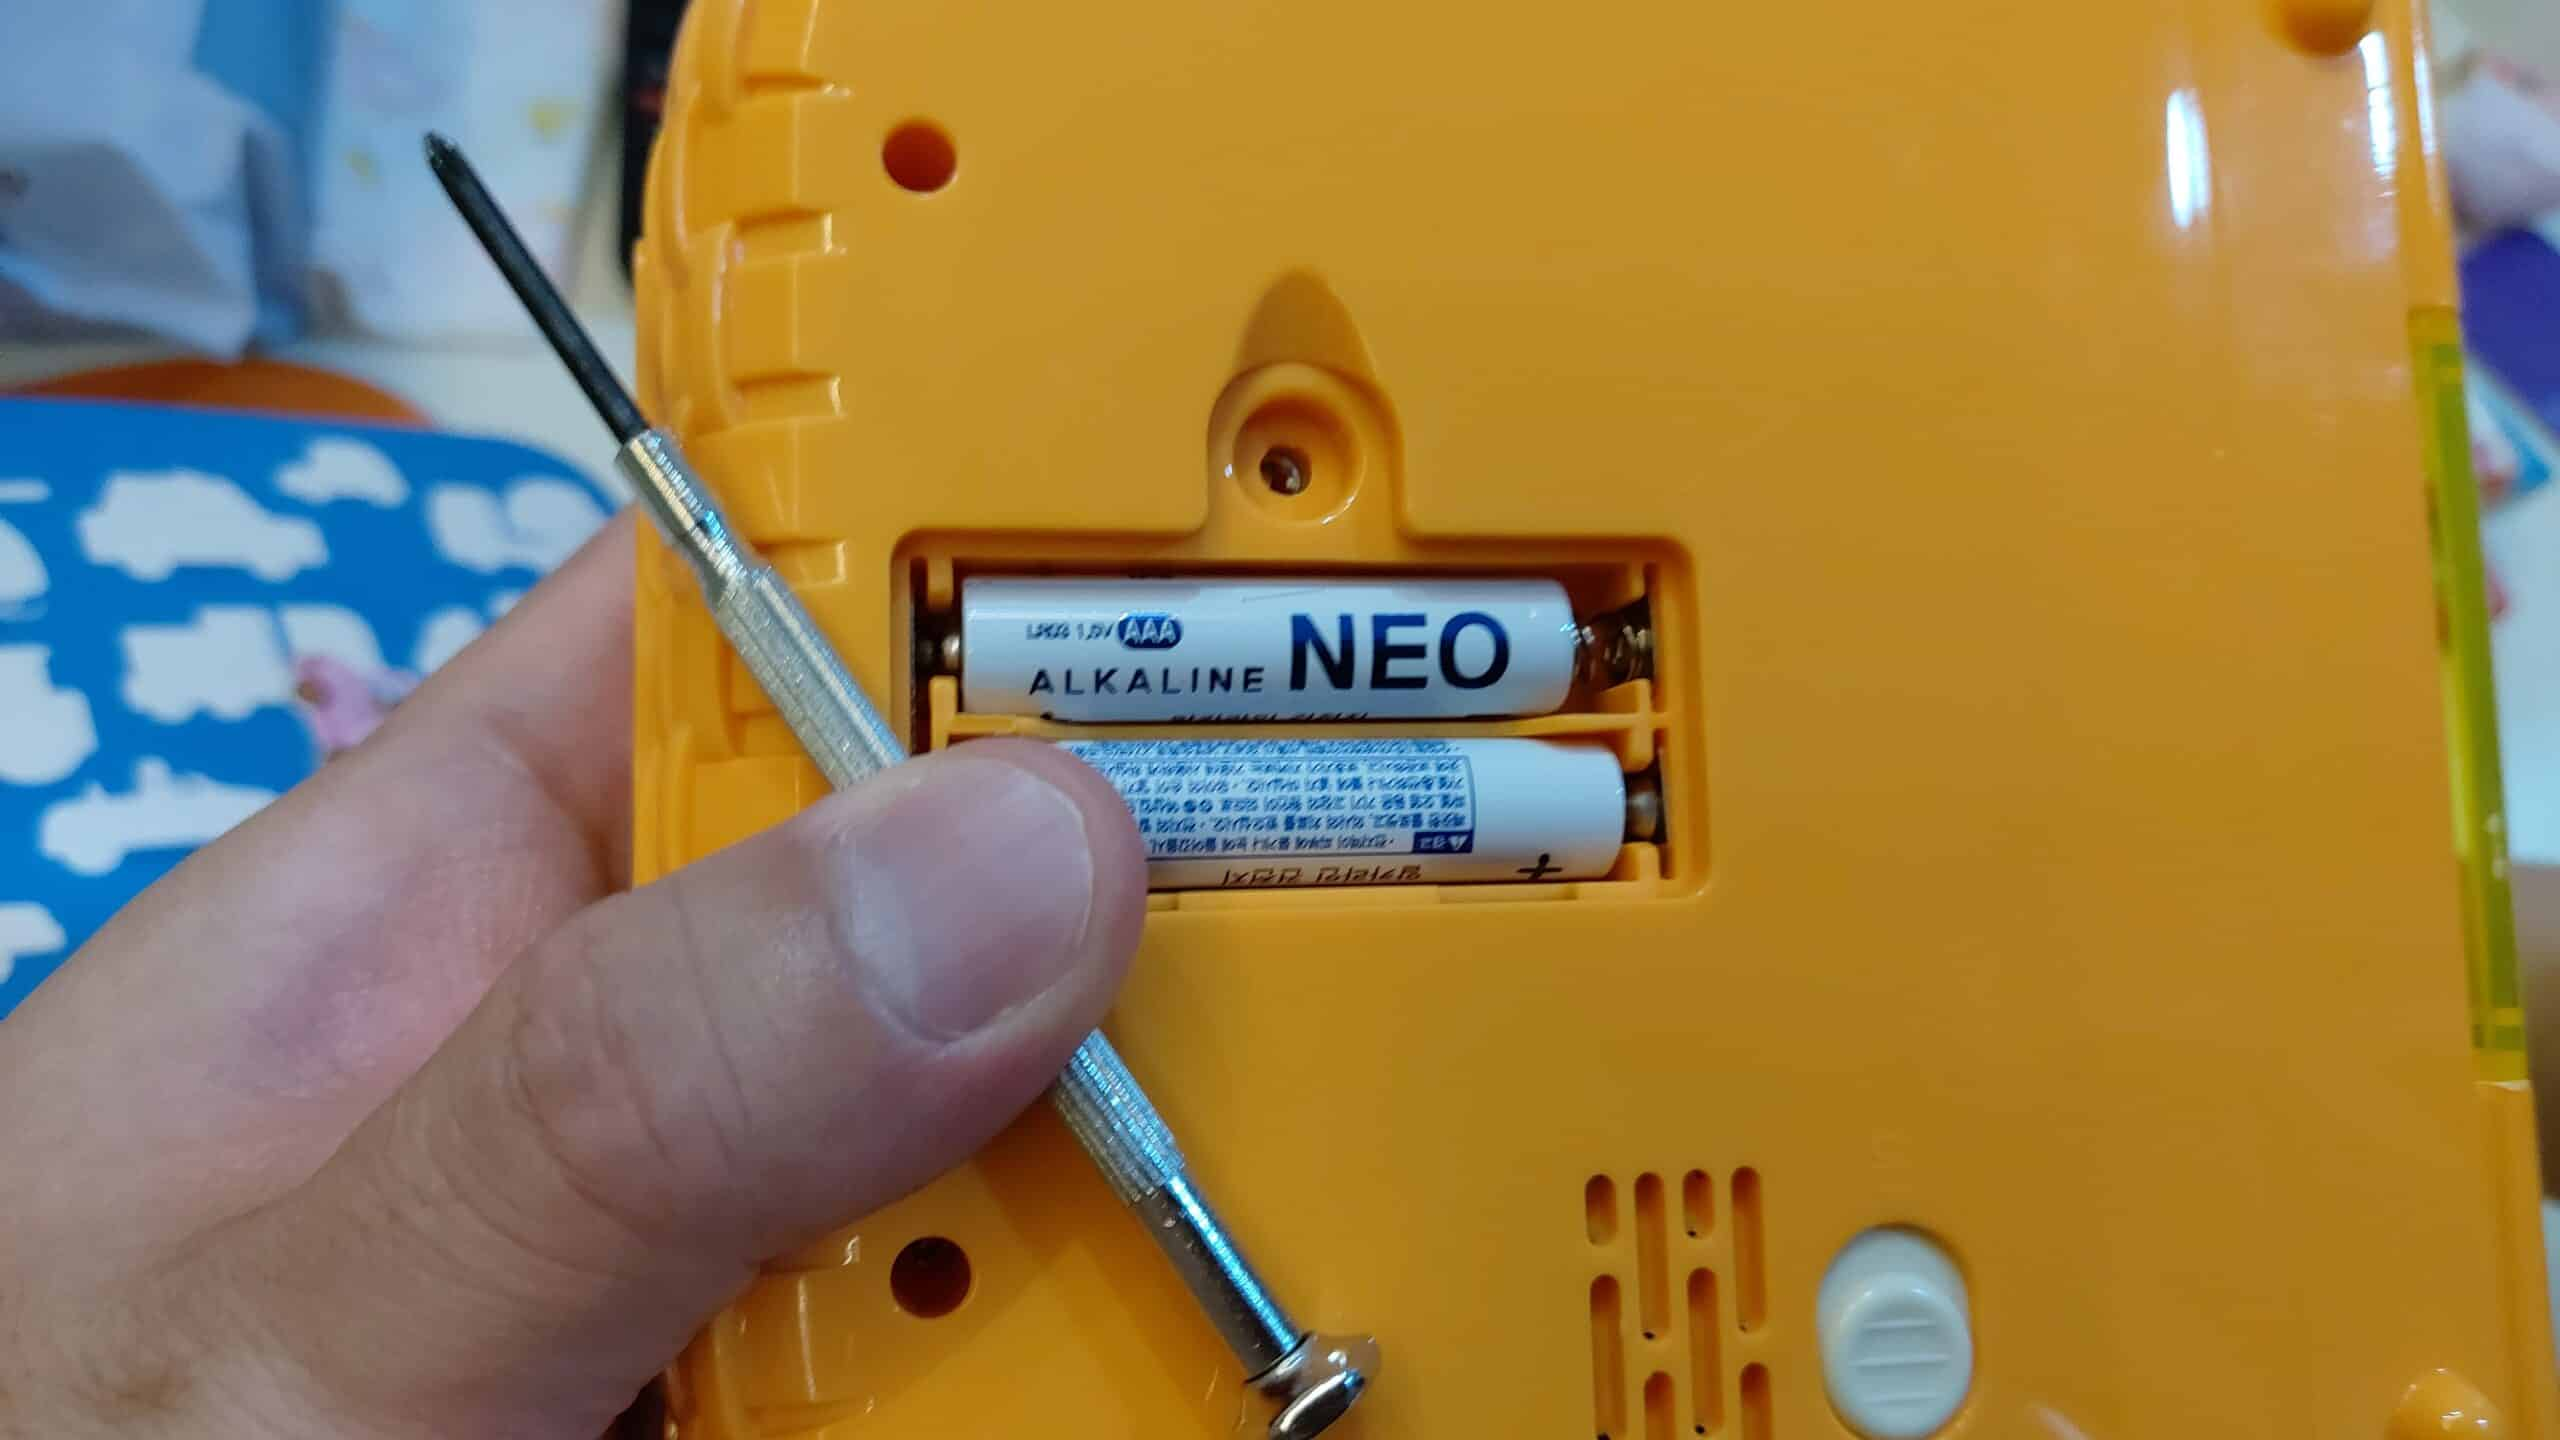battery: (1060, 730, 1655, 904), (923, 578, 1579, 698)
